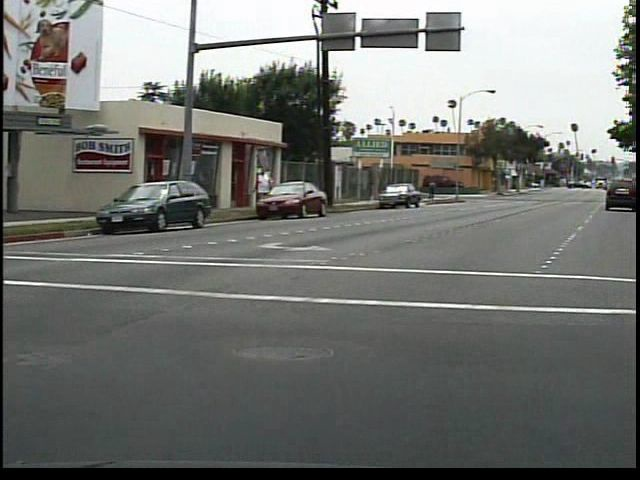person: (257, 160, 283, 215), (431, 178, 445, 203)
